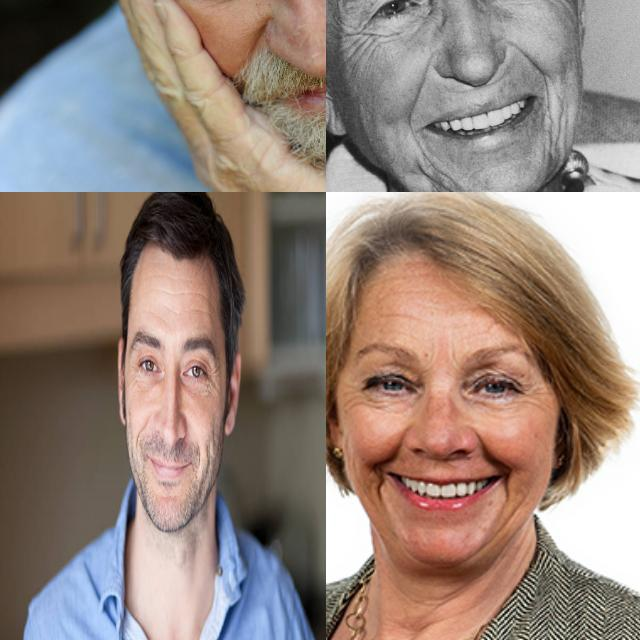chin: (539, 106, 569, 172), (415, 157, 458, 192)
crows_feet: (340, 23, 380, 54), (521, 368, 541, 410), (342, 374, 364, 412), (207, 365, 218, 395)
forehead: (380, 297, 412, 323), (194, 287, 212, 305), (190, 305, 208, 321), (163, 284, 181, 300), (162, 271, 180, 285)
gummy_smile: (502, 38, 550, 76), (400, 70, 432, 120), (472, 424, 508, 468), (377, 432, 405, 466), (194, 436, 201, 468), (134, 421, 141, 449)
sad_smile: (368, 469, 392, 509), (536, 80, 558, 118), (408, 126, 428, 154), (498, 474, 514, 506)
